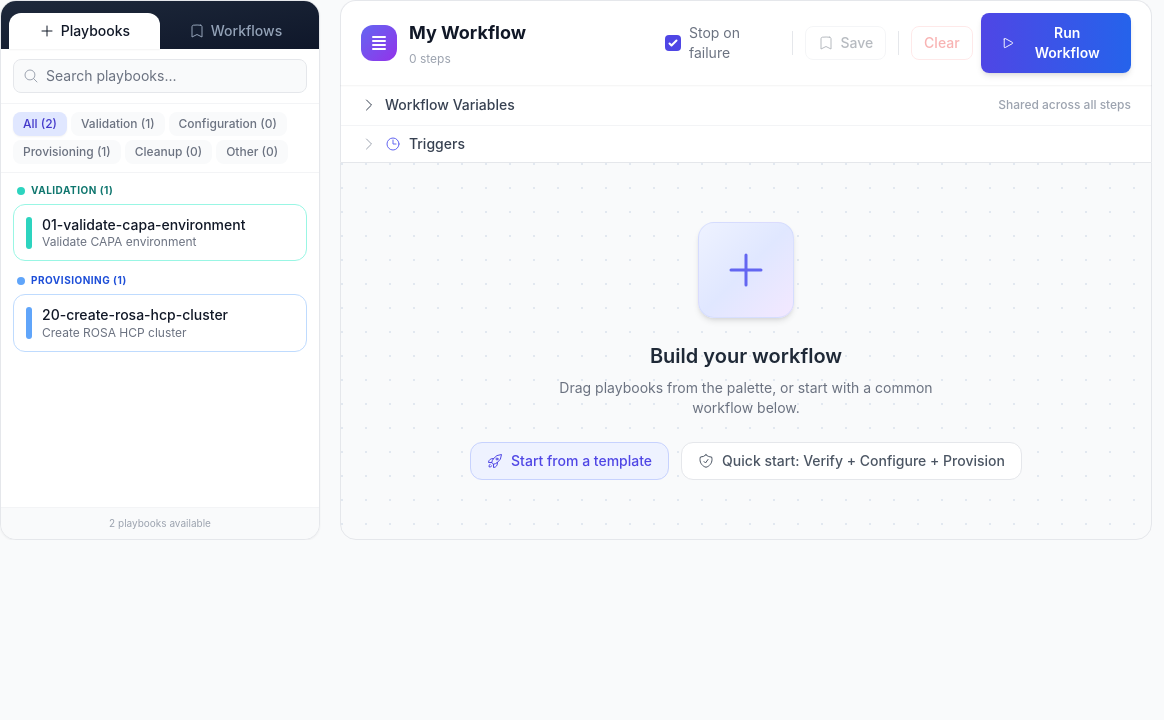
Test: WorkflowBuilder › switches to workflows tab when clicked
Click the button "Workflows" at (236, 31), box [160,13,311,49]
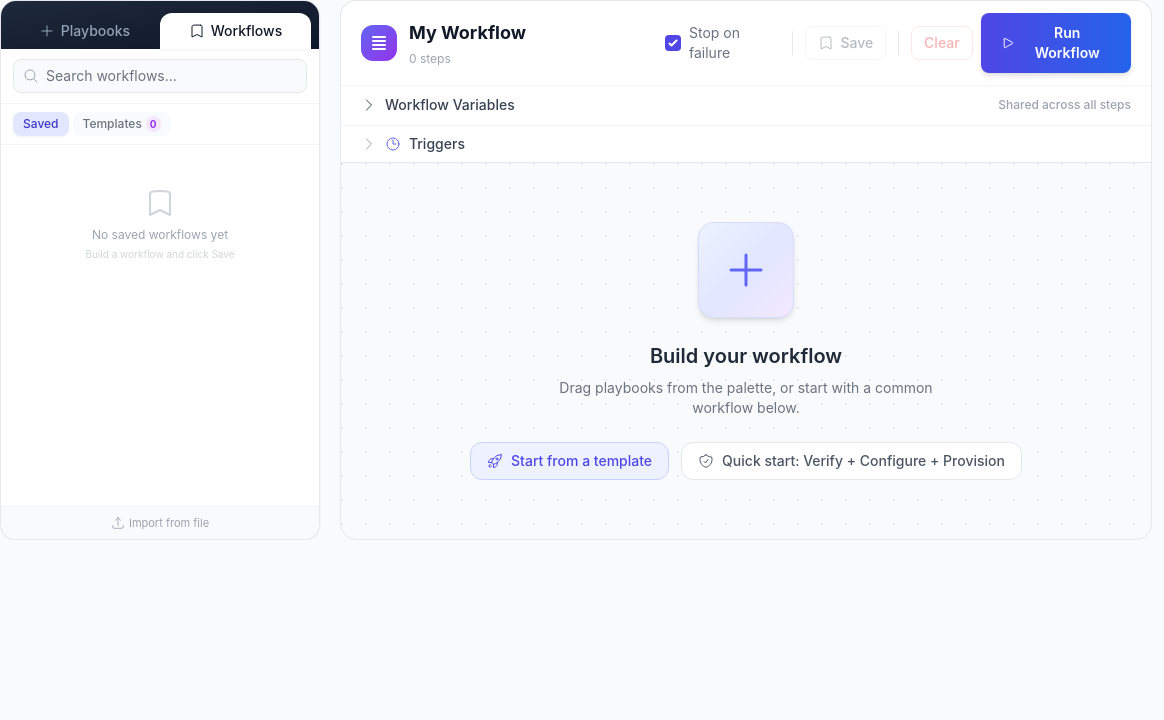
Now the field with placeholder "Search workflows..." is shown, box [13,59,307,93]
